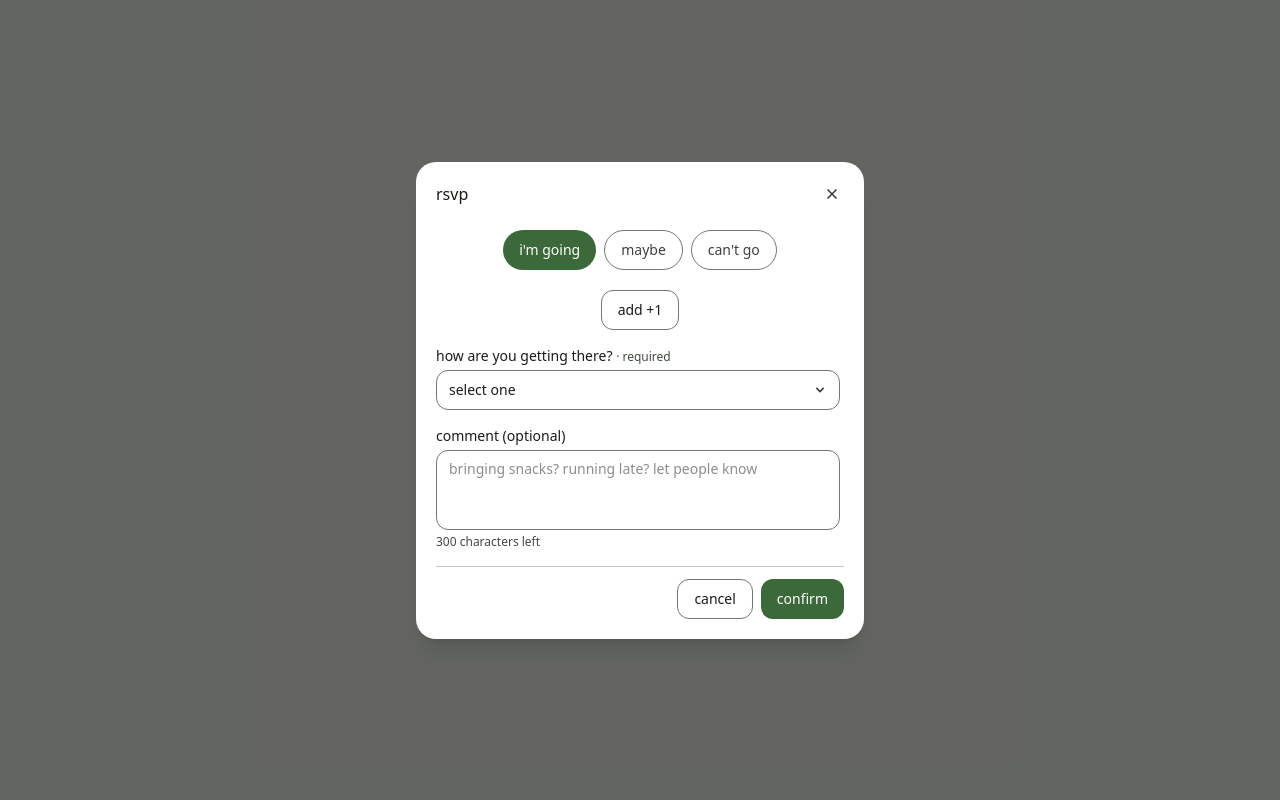
Test: RsvpBox › should block confirm when a required question is unanswered
Click the button "confirm" at [802, 598], box 761,578 -> 844,618
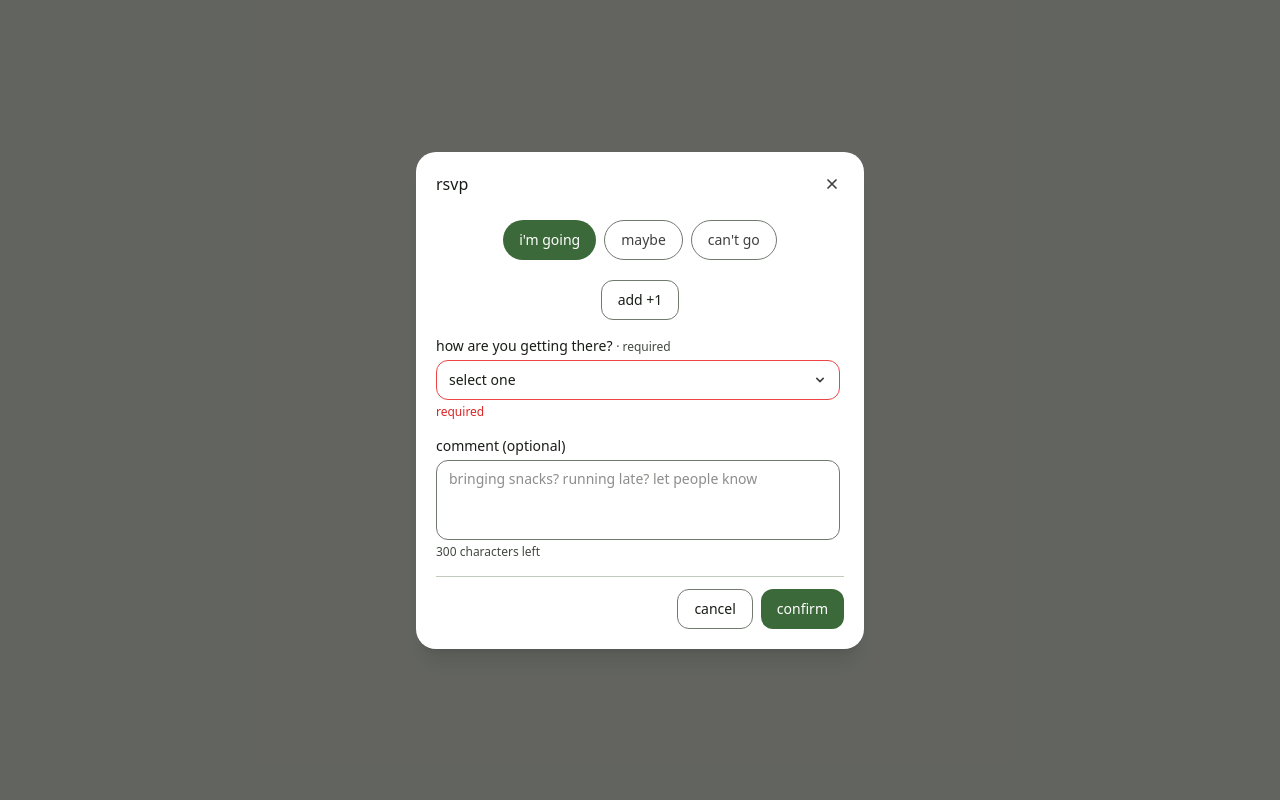
Check: the text "required" is shown, box 436,402 -> 484,420
